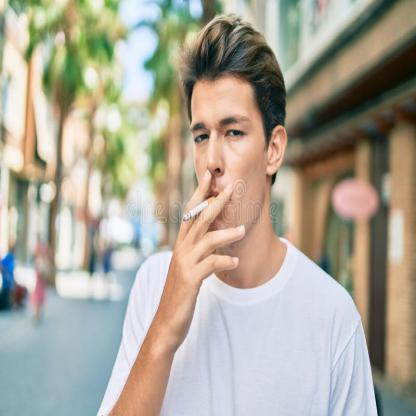cigarette: (182, 194, 216, 224)
person: (100, 17, 374, 415)
